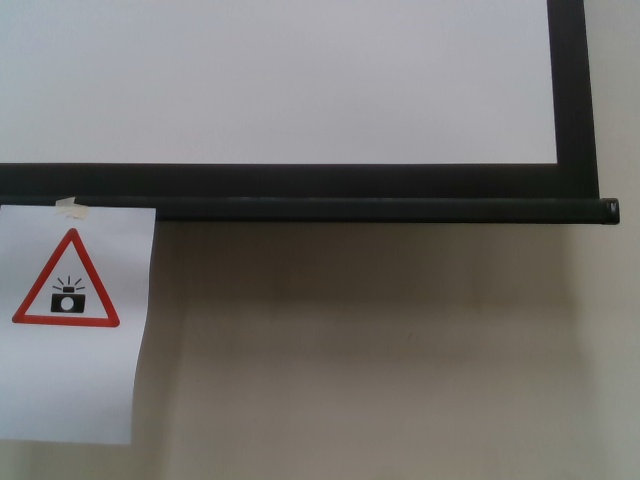camera: (10, 227, 119, 329)
